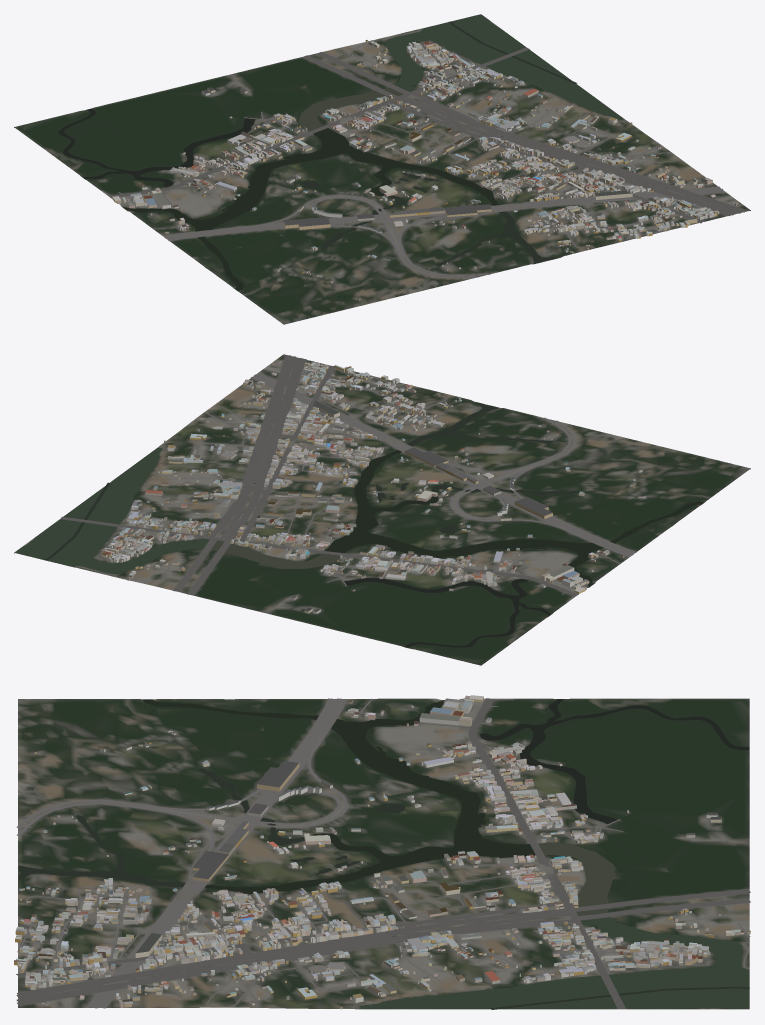
The picture shows the model from 3 angles, top to bottom: view 1: azimuth 30°, elevation 25°; view 2: azimuth 150°, elevation 25°; view 3: azimuth 270°, elevation 25°; orthographic projection. The views are drawn at different scales.
Parts seen in each view (by area): view 1: ground, buildings, water, roads; view 2: ground, buildings, water, roads; view 3: ground, buildings, water, roads.
Boxes of the visible parts, x1,y1,x2,y2 form: ground: (14,14,750,324); buildings: (112,40,738,300); water: (58,14,623,290); roads: (100,28,747,278); ground: (14,354,750,665); buildings: (101,360,664,613); water: (15,402,703,647); roads: (60,355,636,602); ground: (18,698,749,1009); buildings: (14,695,750,1009); water: (18,699,749,1009); roads: (16,698,750,1009).
Bounding box in the file's own units: 1409 × 20.68 × 1411.
